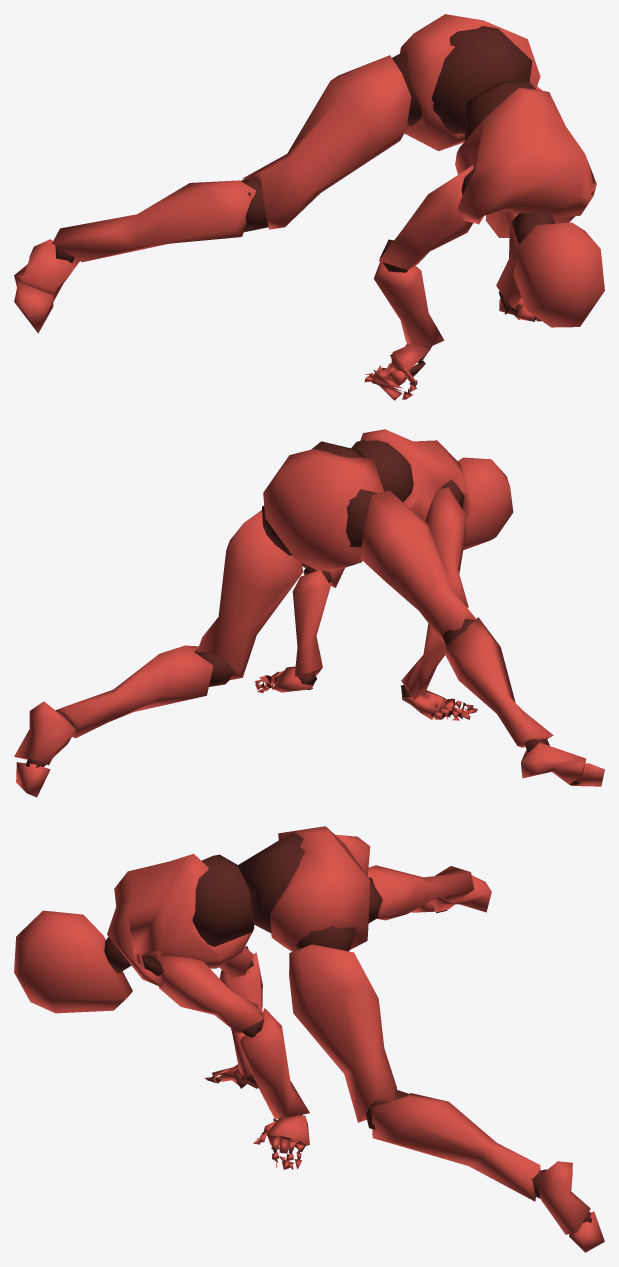
3 views of the same model, one above another, from view 1: azimuth 30°, elevation 25°; view 2: azimuth 150°, elevation 25°; view 3: azimuth 270°, elevation 25° (orthographic). The views are drawn at different scales.
Parts seen in each view (by area): view 1: Beta_Surface; view 2: Beta_Surface; view 3: Beta_Surface.
Part boxes in pixels (left/top/right/bottom): Beta_Surface: left=14, top=14, right=604, bottom=400; Beta_Surface: left=14, top=429, right=604, bottom=797; Beta_Surface: left=14, top=826, right=604, bottom=1252.
Size of the model in its own units: 16.14 by 8.59 by 14.32.
